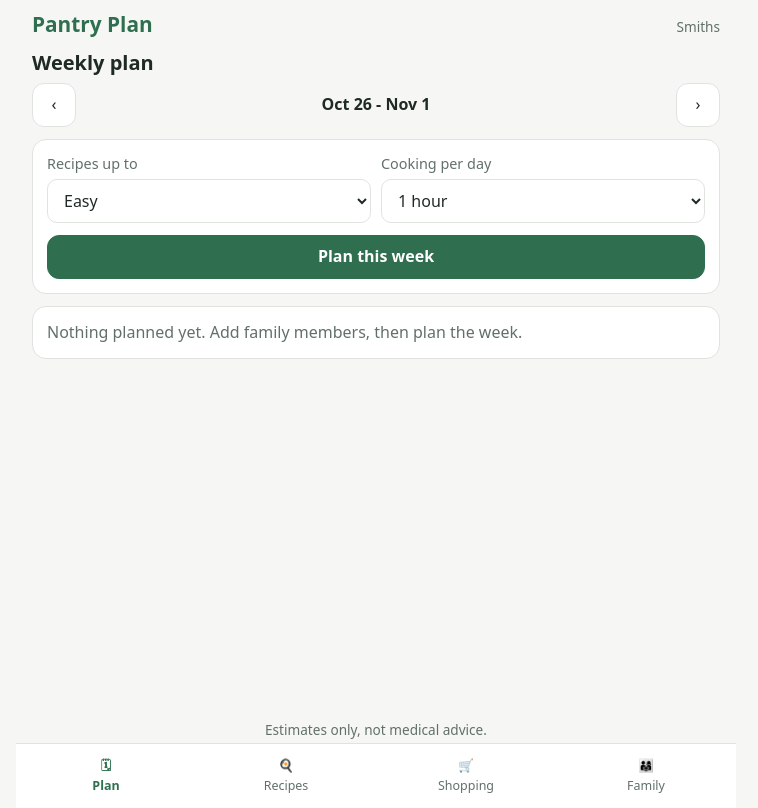
App › shows the four tabs once signed in and switches between them
Expected: the button "🗓 Plan" is shown, left=16, top=744, right=196, bottom=807
Expected: the button "🍳 Recipes" is shown, left=196, top=744, right=376, bottom=807
Click the button "🛒 Shopping". click: (466, 776)
box: left=376, top=744, right=556, bottom=807
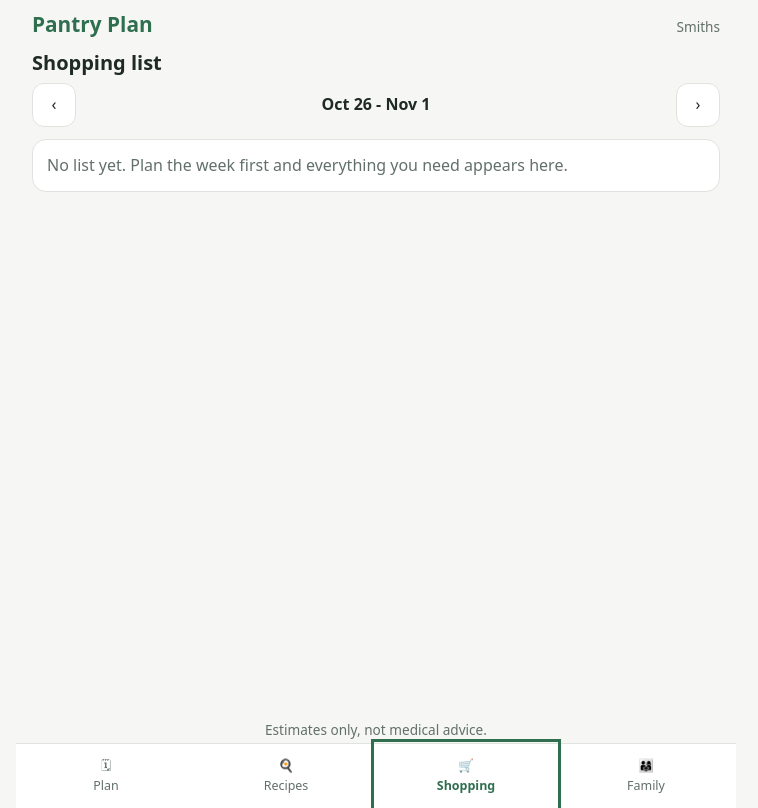
Expected: the heading "Shopping list" is shown, left=32, top=49, right=162, bottom=76
Click the button "👨‍👩‍👧 Family". click: (646, 776)
box: left=556, top=744, right=736, bottom=807
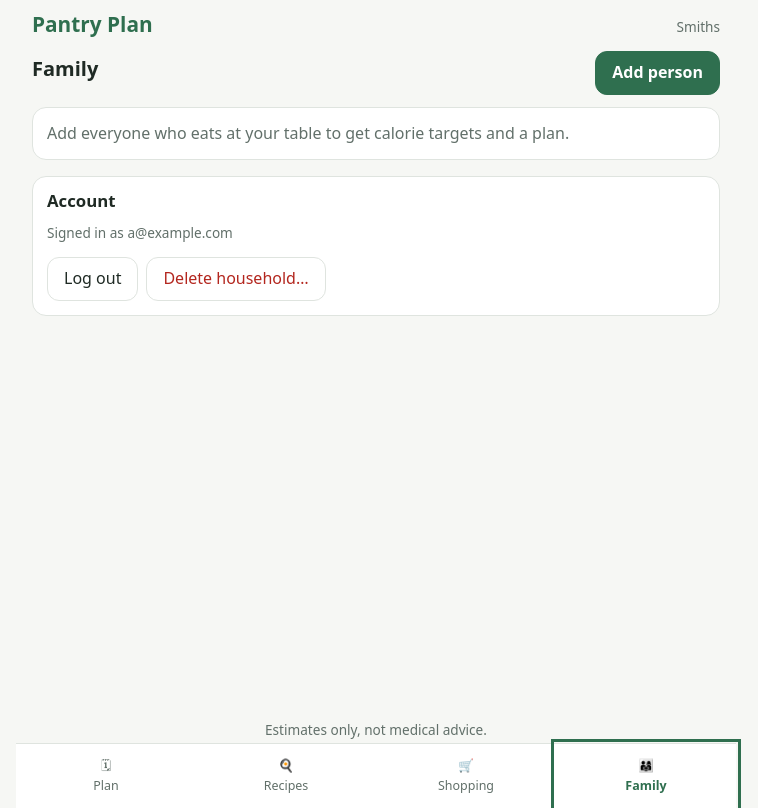
Expected: the heading "Family" is shown, left=32, top=57, right=98, bottom=81
